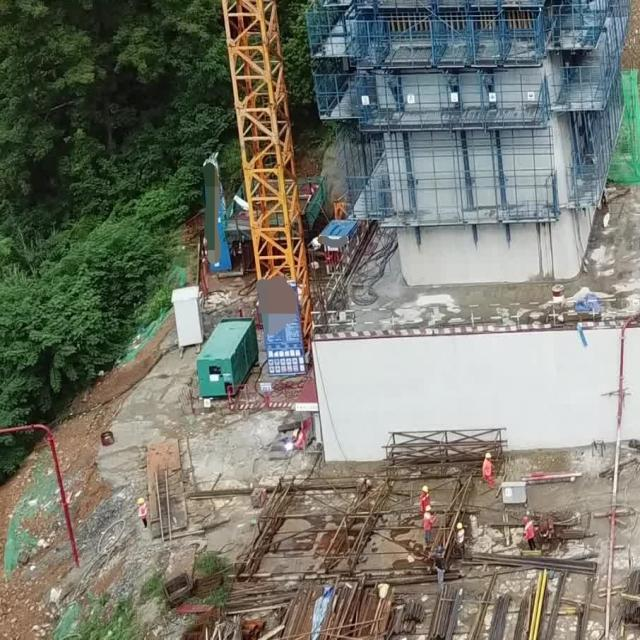crane: (221, 0, 312, 376)
